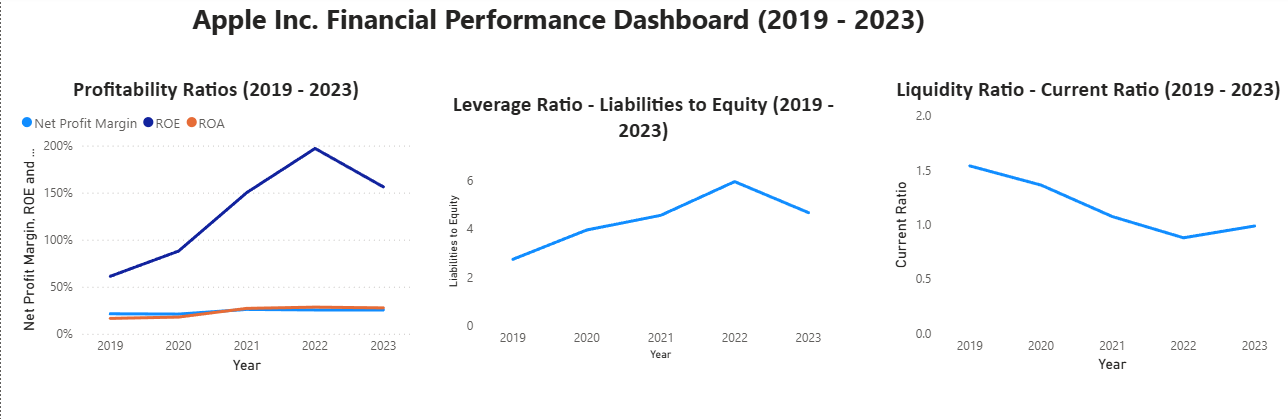

The dashboard page shown, as its layout file describes it:
{"tool":"powerbi","page":{"name":"Financial Dashboard","canvas":[1280,720],"ordinal":3},"visuals":[{"type":"lineChart","title":"Profitability Ratios (2019 - 2023)","fields":{"Category":["Ratio Analysis.Year"],"Y":["Sum(Ratio Analysis.Net Profit Margin)","Sum(Ratio Analysis.ROE)","Sum(Ratio Analysis.ROA)"]},"box":[15.1,81,398,300],"z":0},{"type":"lineChart","title":"Liquidity Ratio - Current Ratio (2019 - 2023)","fields":{"Category":["Ratio Analysis.Year"],"Y":["Sum(Ratio Analysis.Current Ratio)"]},"box":[882.8,81.2,398,300],"z":2000},{"type":"textbox","box":[68.8,0,973.4,81.2],"z":3000},{"type":"textbox","box":[15,391,398,300],"z":3001},{"type":"textbox","box":[440,391,398,300],"z":3002},{"type":"lineChart","title":"Leverage Ratio - Liabilities to Equity (2019 - 2023)","fields":{"Category":["Ratio Analysis.Year"],"Y":["Sum(Ratio Analysis.Debt to equity)"]},"box":[440.5,96.1,397.9,273.1],"z":3003}]}

Visuals, with their boxes on the page's 1280x720 design canvas (x1, y1, x2, y2). These are canvas units, not pixel positions in the 1288x419 screenshot, which may show the page scaled, cropped or inside an application window:
"Profitability Ratios (2019 - 2023)" lineChart: bbox=(15, 81, 413, 381)
"Liquidity Ratio - Current Ratio (2019 - 2023)" lineChart: bbox=(883, 81, 1281, 381)
textbox: bbox=(69, 0, 1042, 81)
textbox: bbox=(15, 391, 413, 691)
textbox: bbox=(440, 391, 838, 691)
"Leverage Ratio - Liabilities to Equity (2019 - 2023)" lineChart: bbox=(440, 96, 838, 369)
